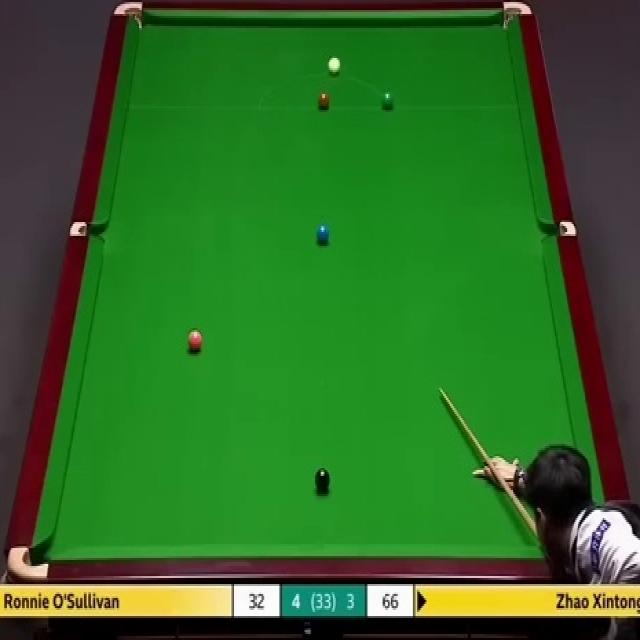pocket: (7, 548, 49, 580), (112, 0, 145, 34), (499, 0, 530, 32), (539, 218, 576, 240), (67, 220, 105, 235)
